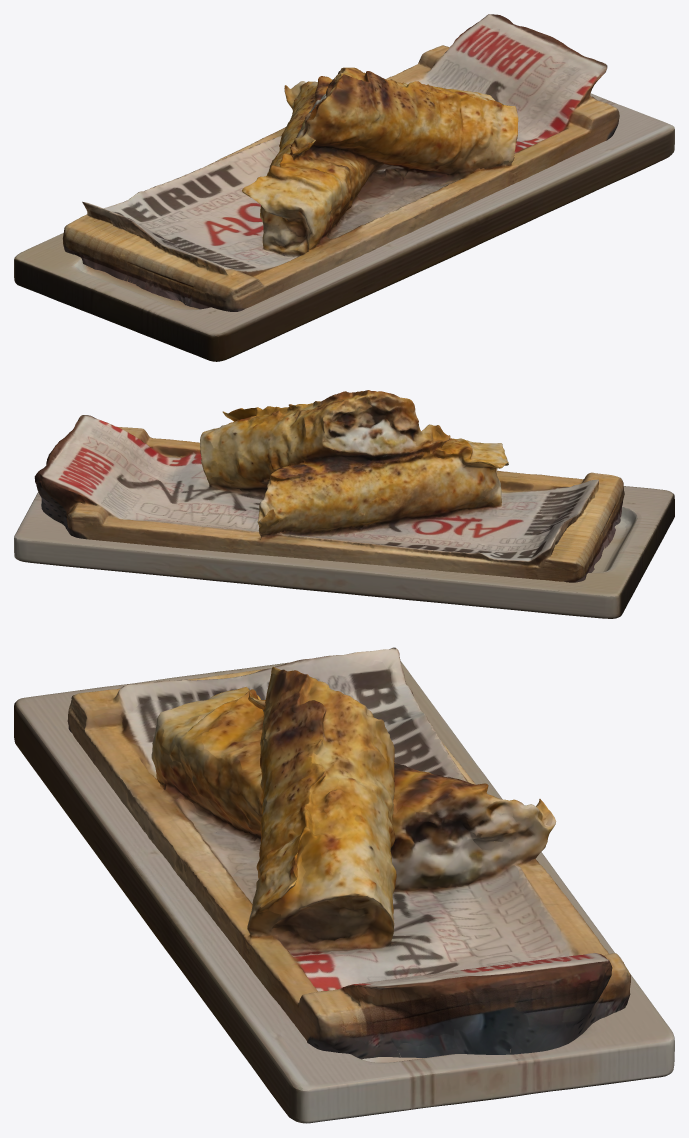
File: shawerma.berrshte.glb
3 renders of one model, top to bottom at view 1: azimuth 30°, elevation 25°; view 2: azimuth 150°, elevation 25°; view 3: azimuth 270°, elevation 25°, orthographic. The views are drawn at different scales.
Parts seen in each view (by area): view 1: /Root/Scenes/Scene/Object_37/Object_38/Submesh_0, /Root/Scenes/Scene/Object_37/Object_41/Object_42/Submesh_0; view 2: /Root/Scenes/Scene/Object_37/Object_38/Submesh_0, /Root/Scenes/Scene/Object_37/Object_41/Object_42/Submesh_0; view 3: /Root/Scenes/Scene/Object_37/Object_38/Submesh_0, /Root/Scenes/Scene/Object_37/Object_41/Object_42/Submesh_0.
Part boxes in pixels (x1,y1,x2,y2): /Root/Scenes/Scene/Object_37/Object_38/Submesh_0: (62,14,619,311); /Root/Scenes/Scene/Object_37/Object_41/Object_42/Submesh_0: (14,93,674,361); /Root/Scenes/Scene/Object_37/Object_38/Submesh_0: (34,390,624,582); /Root/Scenes/Scene/Object_37/Object_41/Object_42/Submesh_0: (14,486,674,618); /Root/Scenes/Scene/Object_37/Object_38/Submesh_0: (67,647,630,1059); /Root/Scenes/Scene/Object_37/Object_41/Object_42/Submesh_0: (14,661,674,1123).
Size of the model in its own units: 0.4235 by 0.101 by 0.2695.
Materials: 2 (2 with a texture image).
